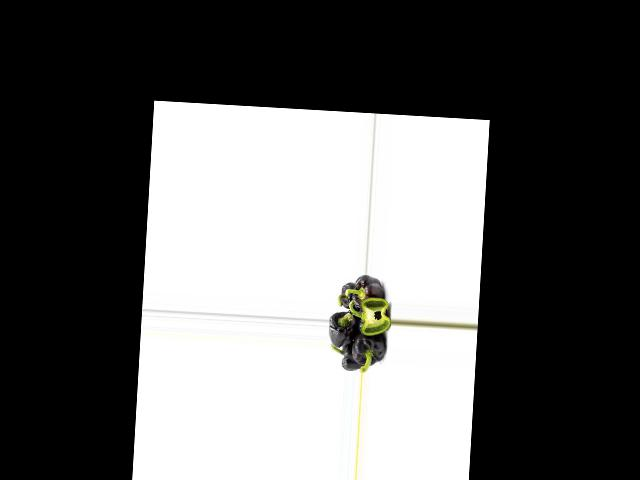bell_pepper: (351, 275, 383, 316)
